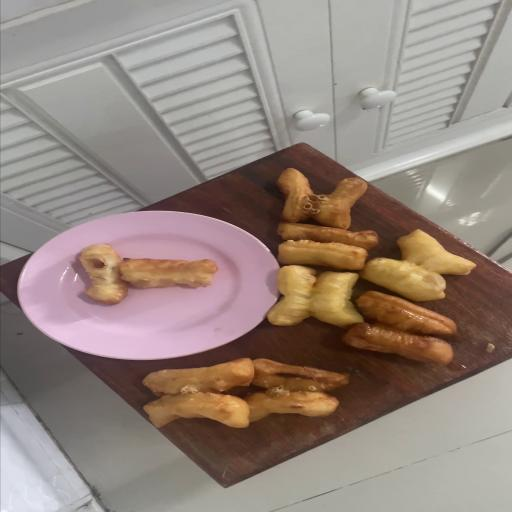street_burnt_defect: (121, 258, 217, 289)
street_golden_defect: (143, 358, 347, 427)
